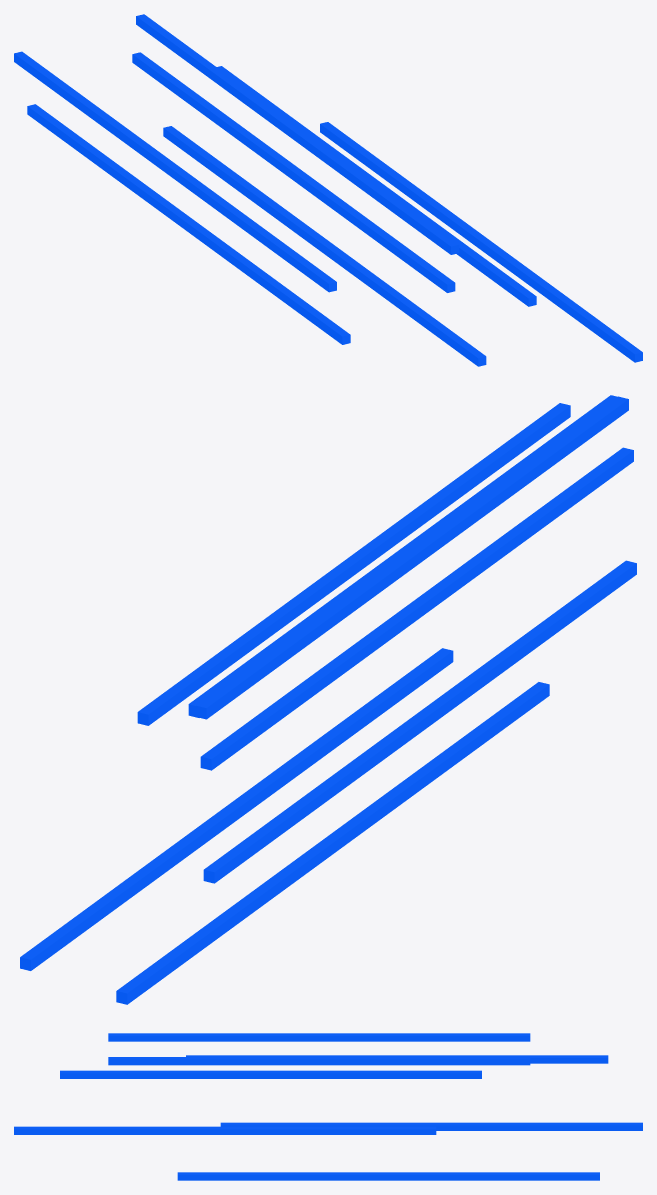
The model's file is lightingLine.glb.
3 renders of one model, top to bottom at view 1: azimuth 30°, elevation 25°; view 2: azimuth 150°, elevation 25°; view 3: azimuth 270°, elevation 25°, orthographic. The views are drawn at different scales.
Visible parts, largest first — view 1: Cube.005, Cube.001, Cube.006, Cube.003, Cube, Cube.004, Cube.002; view 2: Cube.001, Cube, Cube.006, Cube.003, Cube.005, Cube.004, Cube.002; view 3: Cube.001, Cube.005, Cube.003, Cube.004, Cube.002, Cube.006, Cube.
Boxes of the visible parts, x1,y1,x2,y2 form: Cube.005: (163, 126, 486, 366); Cube.001: (136, 14, 459, 254); Cube.006: (27, 104, 350, 344); Cube.003: (132, 52, 455, 292); Cube: (14, 51, 336, 292); Cube.004: (320, 122, 642, 362); Cube.002: (217, 66, 536, 306); Cube.001: (195, 396, 628, 719); Cube: (203, 560, 636, 883); Cube.006: (116, 682, 549, 1004); Cube.003: (200, 447, 633, 770); Cube.005: (20, 648, 453, 970); Cube.004: (137, 403, 570, 725); Cube.002: (188, 395, 617, 717); Cube.001: (108, 1033, 530, 1041); Cube.005: (177, 1172, 599, 1180); Cube.003: (108, 1057, 530, 1065); Cube.004: (14, 1126, 436, 1134); Cube.002: (60, 1070, 481, 1078); Cube.006: (220, 1122, 642, 1130); Cube: (186, 1055, 608, 1063).
Size of the model in its own units: 8.77 by 8.01 by 38.38.
